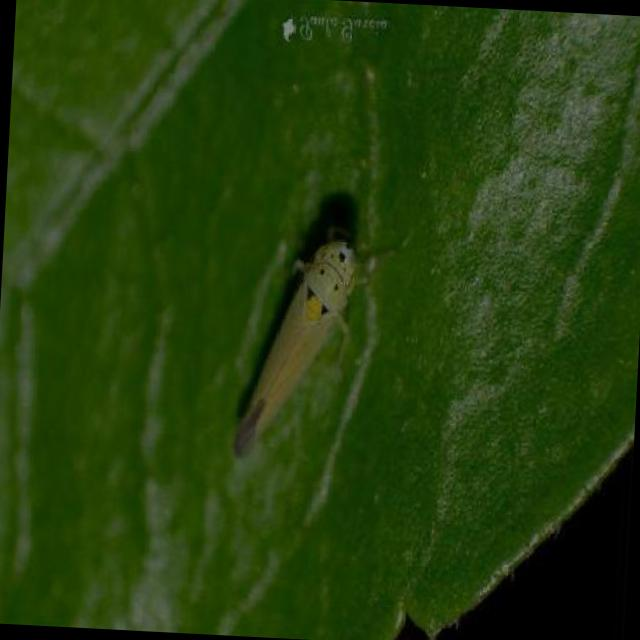green-leafhopper: (234, 221, 384, 460)
